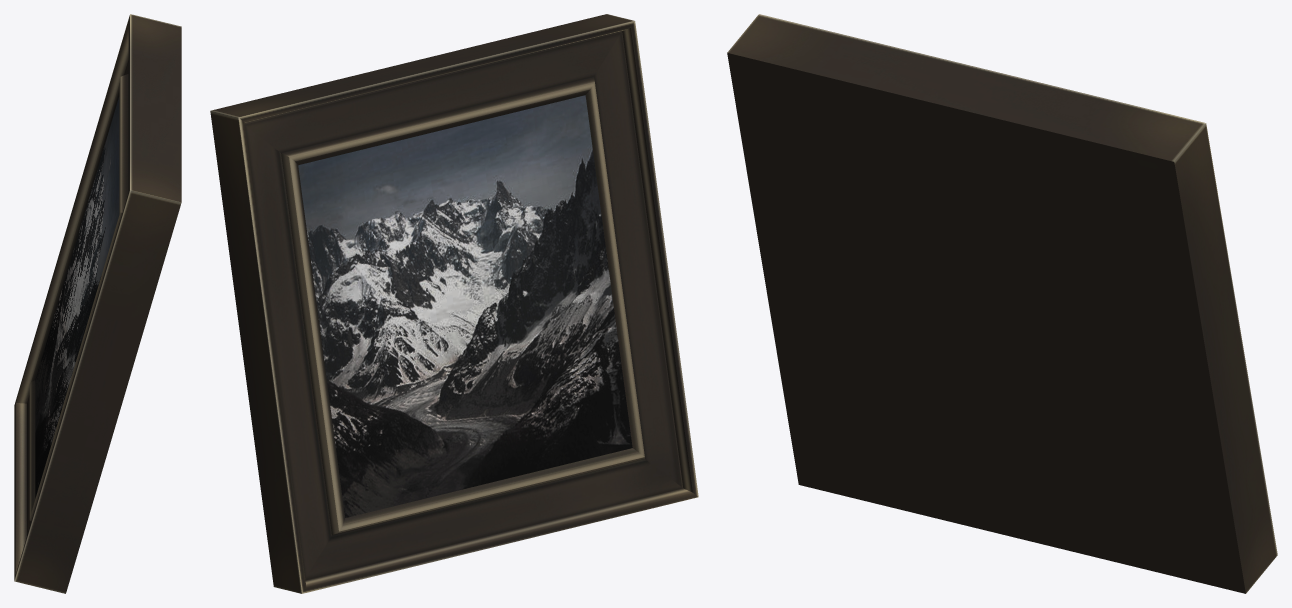
The model's file is Frame01.FBX.
3 views of the same model, side by side, from view 1: azimuth 30°, elevation 25°; view 2: azimuth 150°, elevation 25°; view 3: azimuth 270°, elevation 25° (orthographic). The views are drawn at different scales.
Parts seen in each view (by area): view 1: Box113; view 2: Box113; view 3: Box113.
Part boxes in pixels (x1,y1,x2,y2): Box113: (14, 14, 181, 593); Box113: (210, 14, 698, 593); Box113: (727, 14, 1277, 593).
Size of the model in its own units: 109 by 138 by 138.
Materials: 1 (1 with a texture image).
